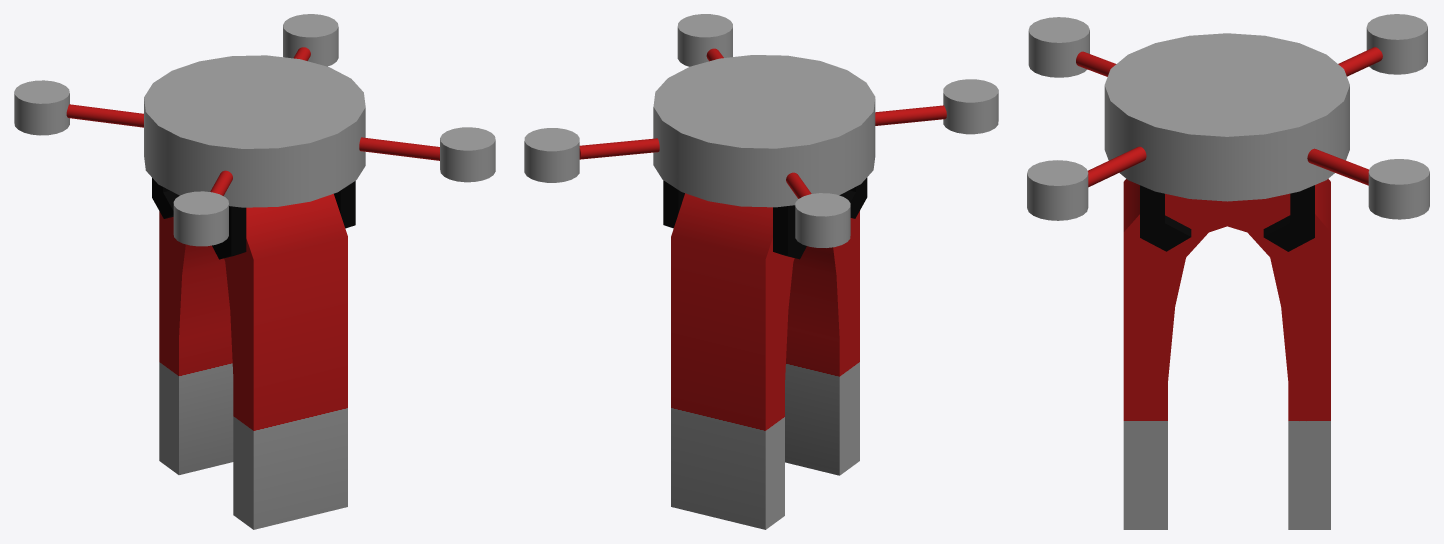
Rendered from dronebaseV2.fbx.
3 renders of one model, left to right at view 1: azimuth 30°, elevation 25°; view 2: azimuth 150°, elevation 25°; view 3: azimuth 270°, elevation 25°, orthographic. The views are drawn at different scales.
Visible parts, largest first — view 1: pCylinder11; view 2: pCylinder11; view 3: pCylinder11.
Boxes of the visible parts, x1,y1,x2,y2 form: pCylinder11: [14, 14, 495, 529]; pCylinder11: [524, 14, 998, 529]; pCylinder11: [1027, 14, 1429, 529].
Size of the model in its own units: 2.65 by 3.02 by 2.63.
